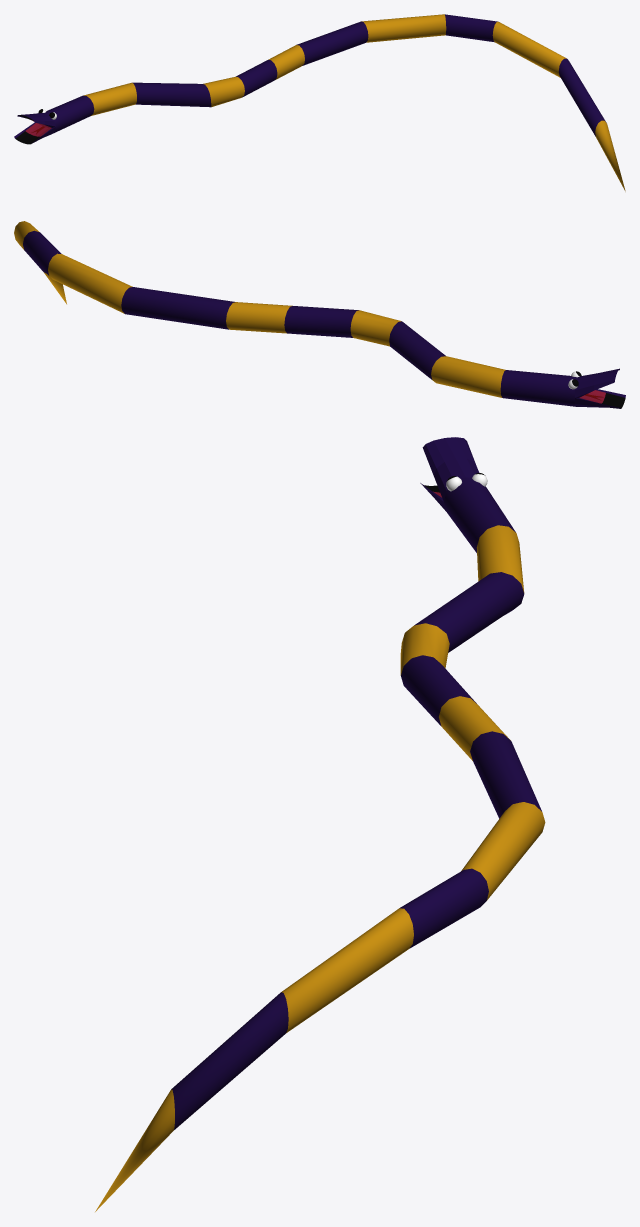
Rendered from Serpiente.FBX.
3 renders of one model, top to bottom at view 1: azimuth 30°, elevation 25°; view 2: azimuth 150°, elevation 25°; view 3: azimuth 270°, elevation 25°, orthographic. The views are drawn at different scales.
Visible parts, largest first — view 1: Line001; view 2: Line001; view 3: Line001.
Part boxes in pixels (box(x1,y1,x2,y2)): Line001: box(14, 14, 625, 191); Line001: box(14, 221, 625, 408); Line001: box(95, 437, 545, 1211).
Size of the model in its own units: 38.98 by 9.81 by 14.59.
